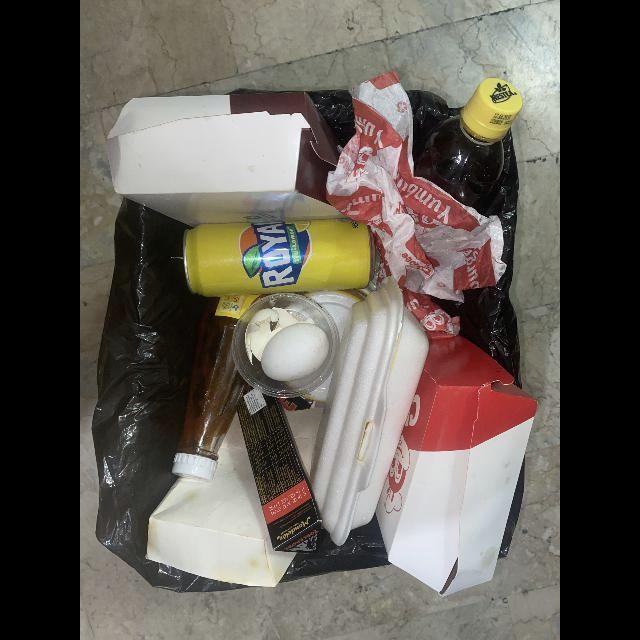aluminum: (183, 215, 376, 297)
cardboard: (377, 327, 540, 598), (107, 93, 347, 226), (237, 383, 324, 556)
glass_bottle: (147, 410, 297, 589), (170, 294, 262, 483)
paper: (324, 75, 508, 333)
plastic_bottle: (411, 78, 523, 210)
